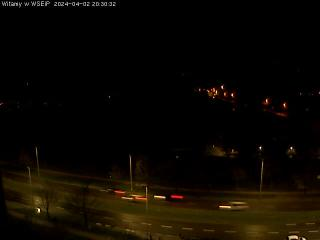car: (218, 199, 250, 212), (153, 190, 183, 203), (122, 192, 147, 204), (100, 185, 122, 195), (283, 234, 306, 240)
